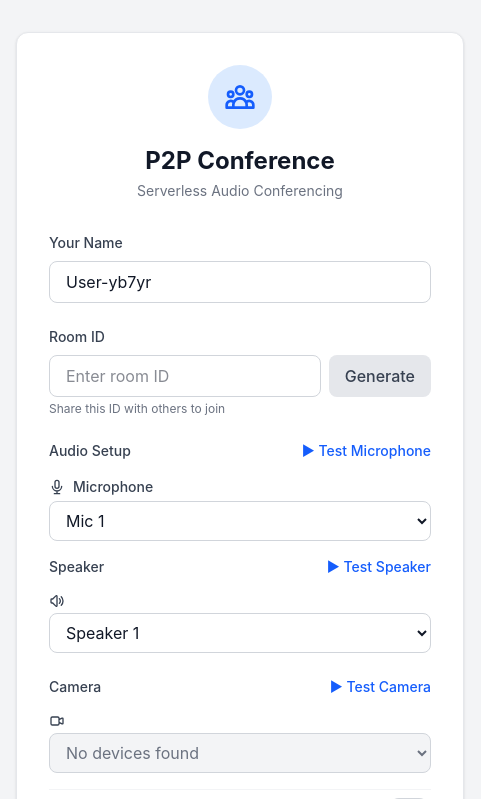
LobbyView › enables join button when room ID is exactly 4 characters
The width and height of the screenshot is (481, 799).
Replace the text in the field with placeholder "Enter your name" with "Test User" at [240, 282], box [49, 261, 431, 303]
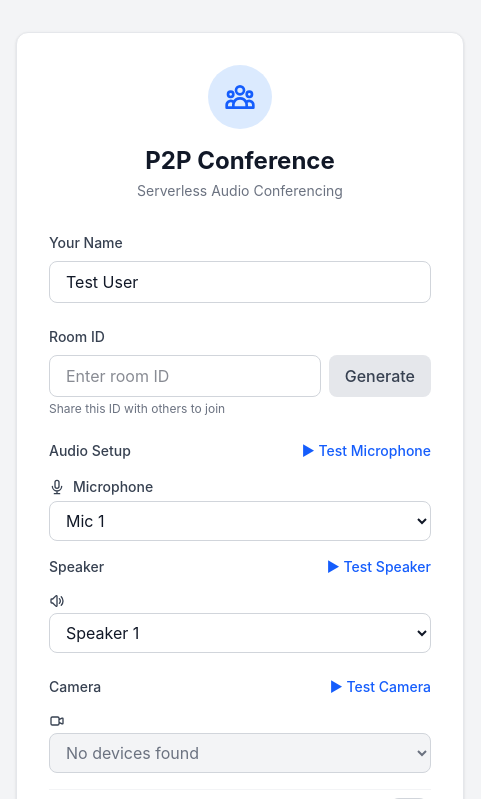
Type "abcd" into the field with placeholder "Enter room ID" at [185, 376], box [49, 355, 321, 397]
(page scrolled)
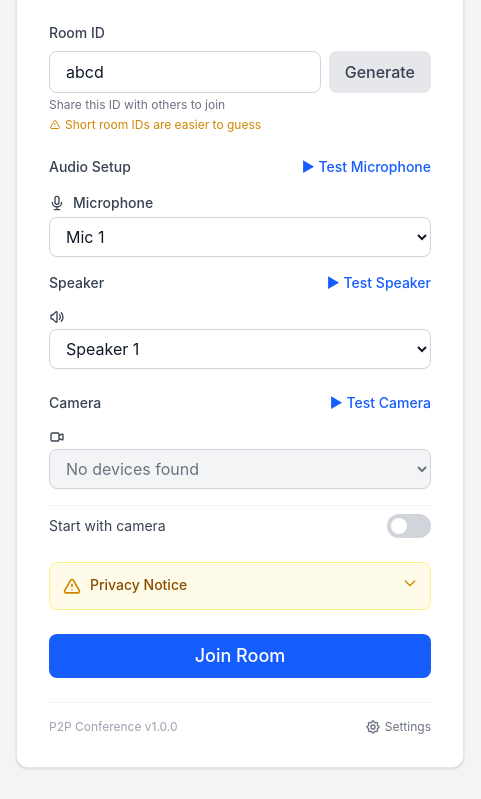
Expected: the button "Join Room" is enabled, [49, 634, 431, 678]
